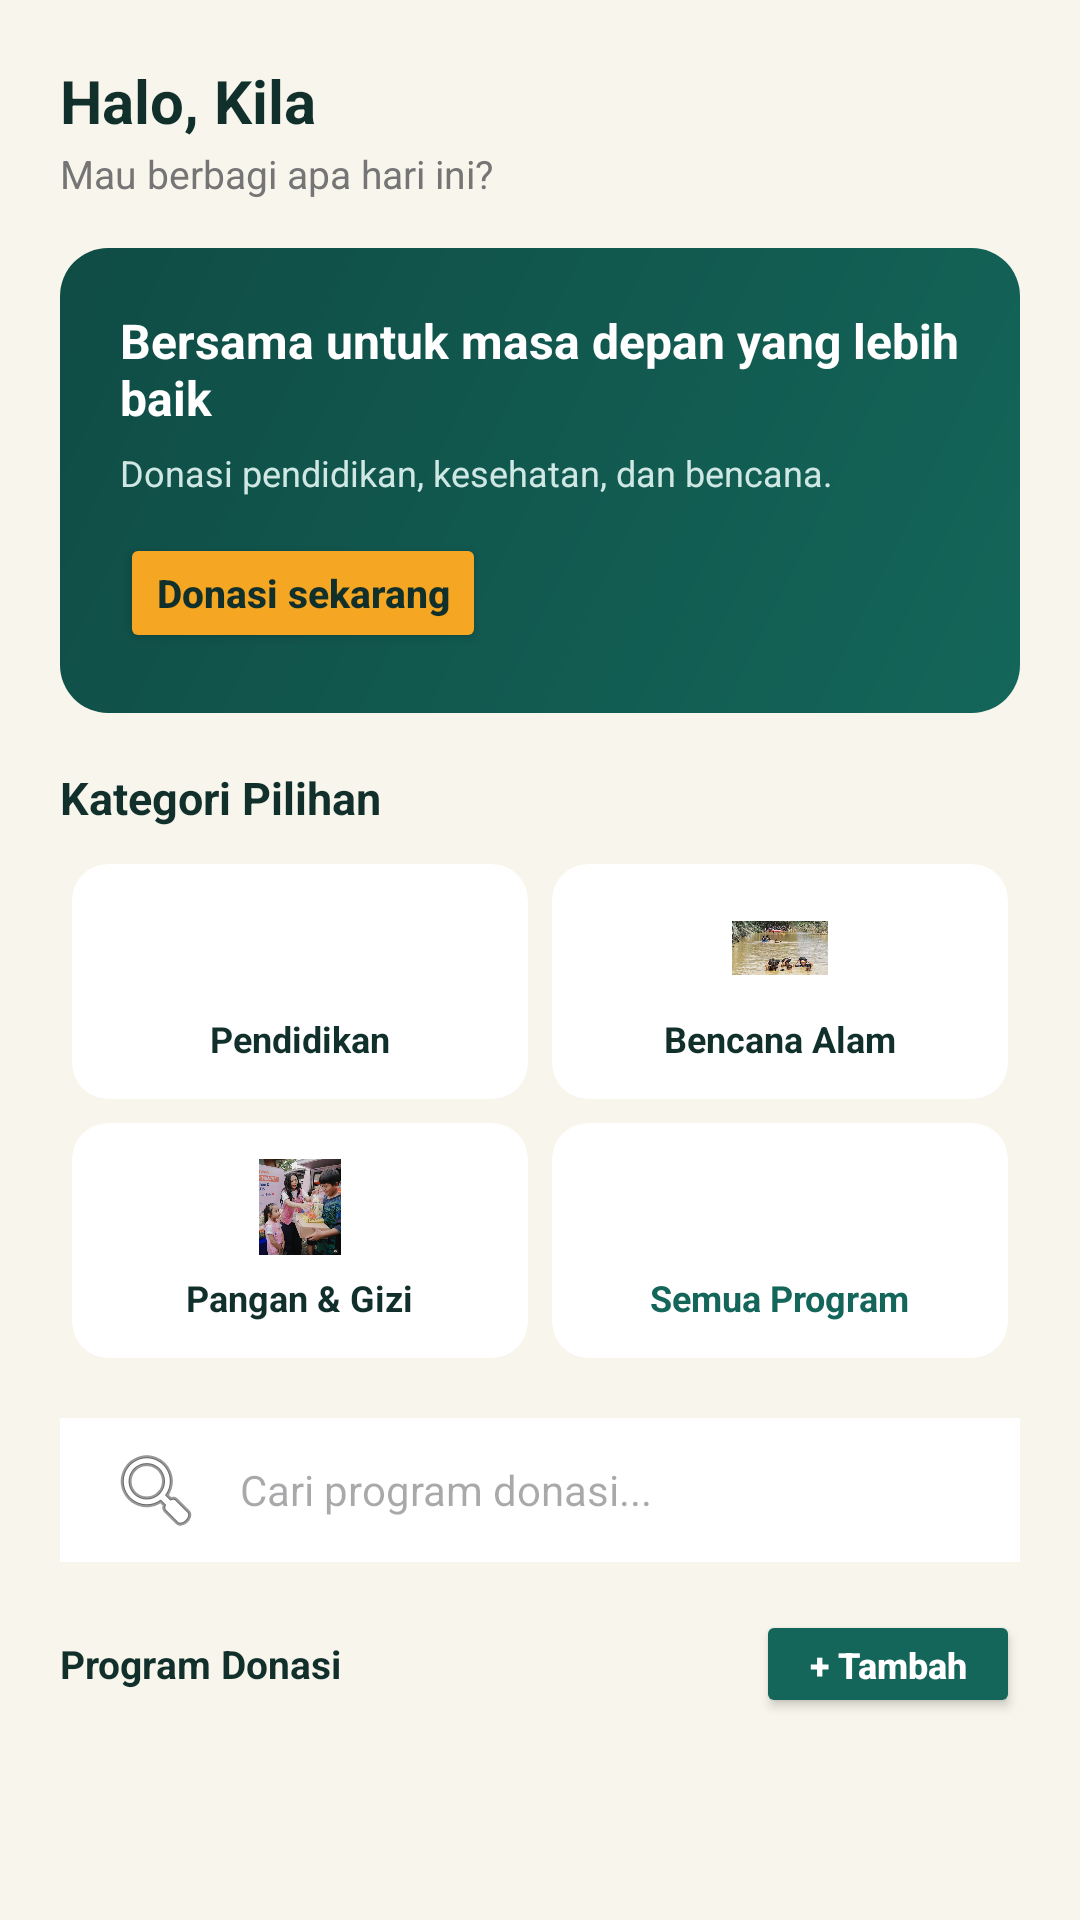

Icon bounding boxes for this 1080w x 1920h phone screenshot, format box=[x1, y1, x2, y2]:
banjir: box=[732, 921, 828, 975]
bantuan makanan: box=[259, 1159, 341, 1255]
